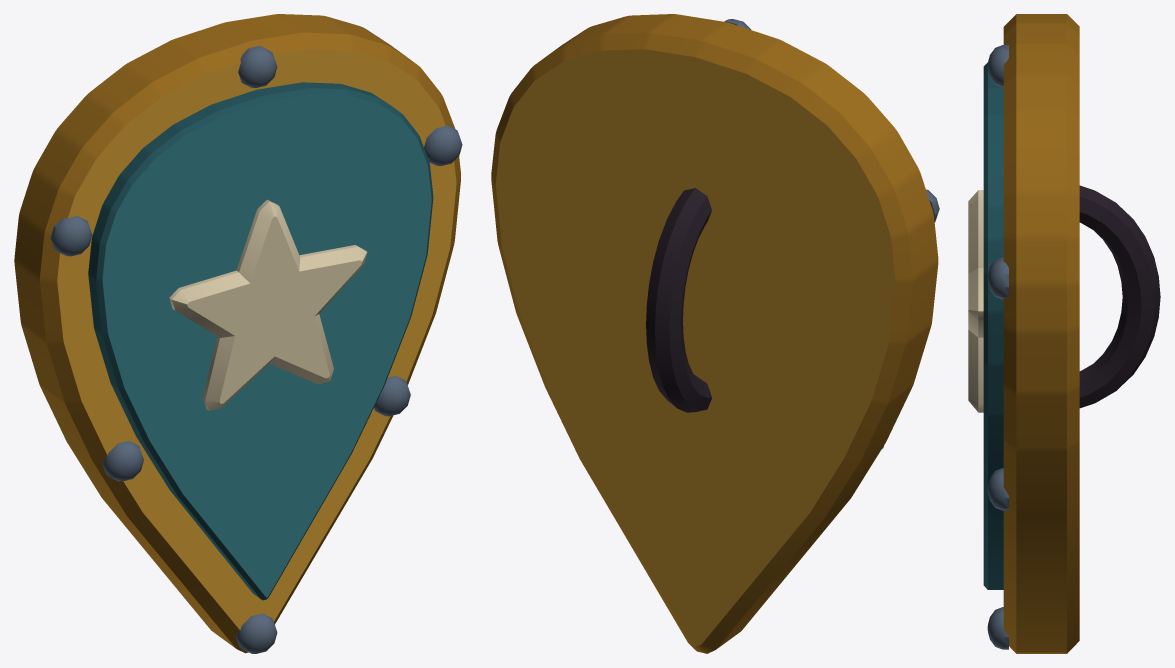
File: KiteShield_17.glb
3 views of the same model, side by side, from view 1: azimuth 30°, elevation 25°; view 2: azimuth 150°, elevation 25°; view 3: azimuth 270°, elevation 25° (orthographic).
Parts seen in each view (by area): view 1: KiteShield_17; view 2: KiteShield_17; view 3: KiteShield_17.
Boxes of the visible parts, left/top/right/bottom form: KiteShield_17: left=14, top=14, right=462, bottom=653; KiteShield_17: left=491, top=14, right=939, bottom=653; KiteShield_17: left=968, top=14, right=1160, bottom=653.
Bounding box in the file's own units: 1.91 × 2.65 × 0.76.
